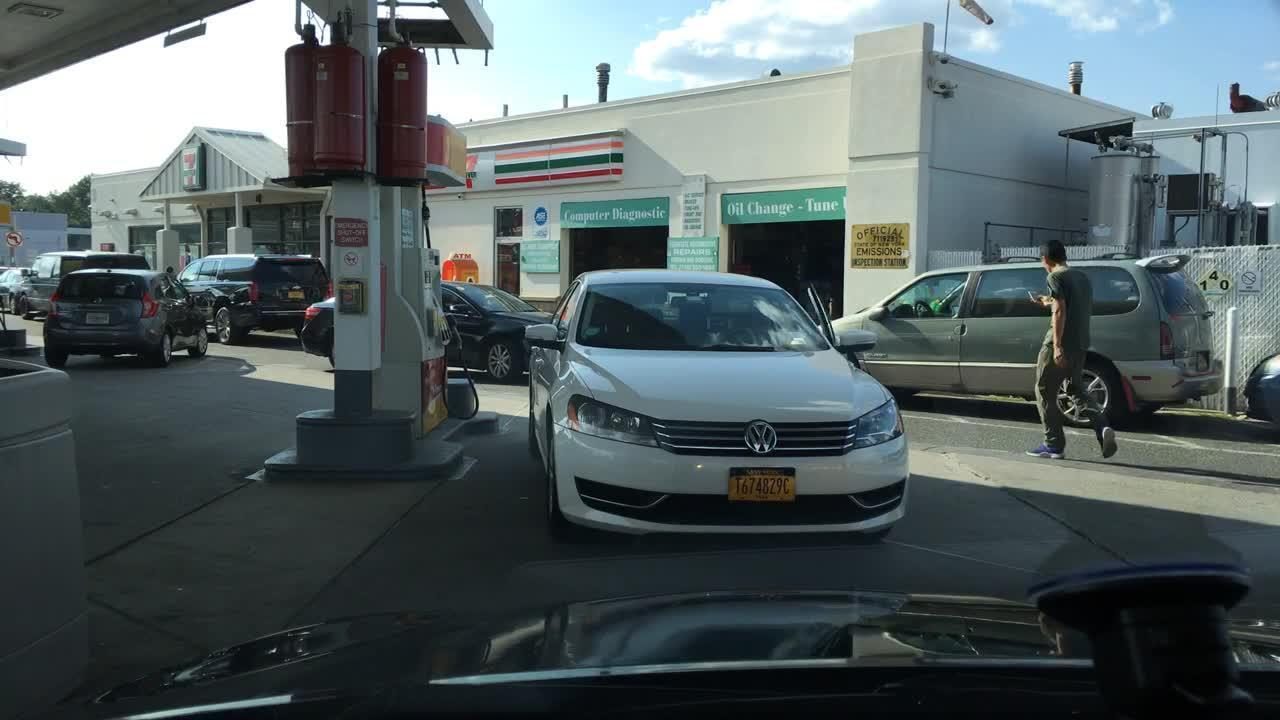Volkswagen: (735, 415, 787, 461)
